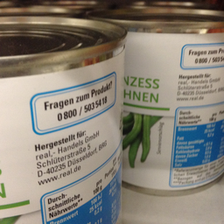beans: (1, 22, 127, 224)
